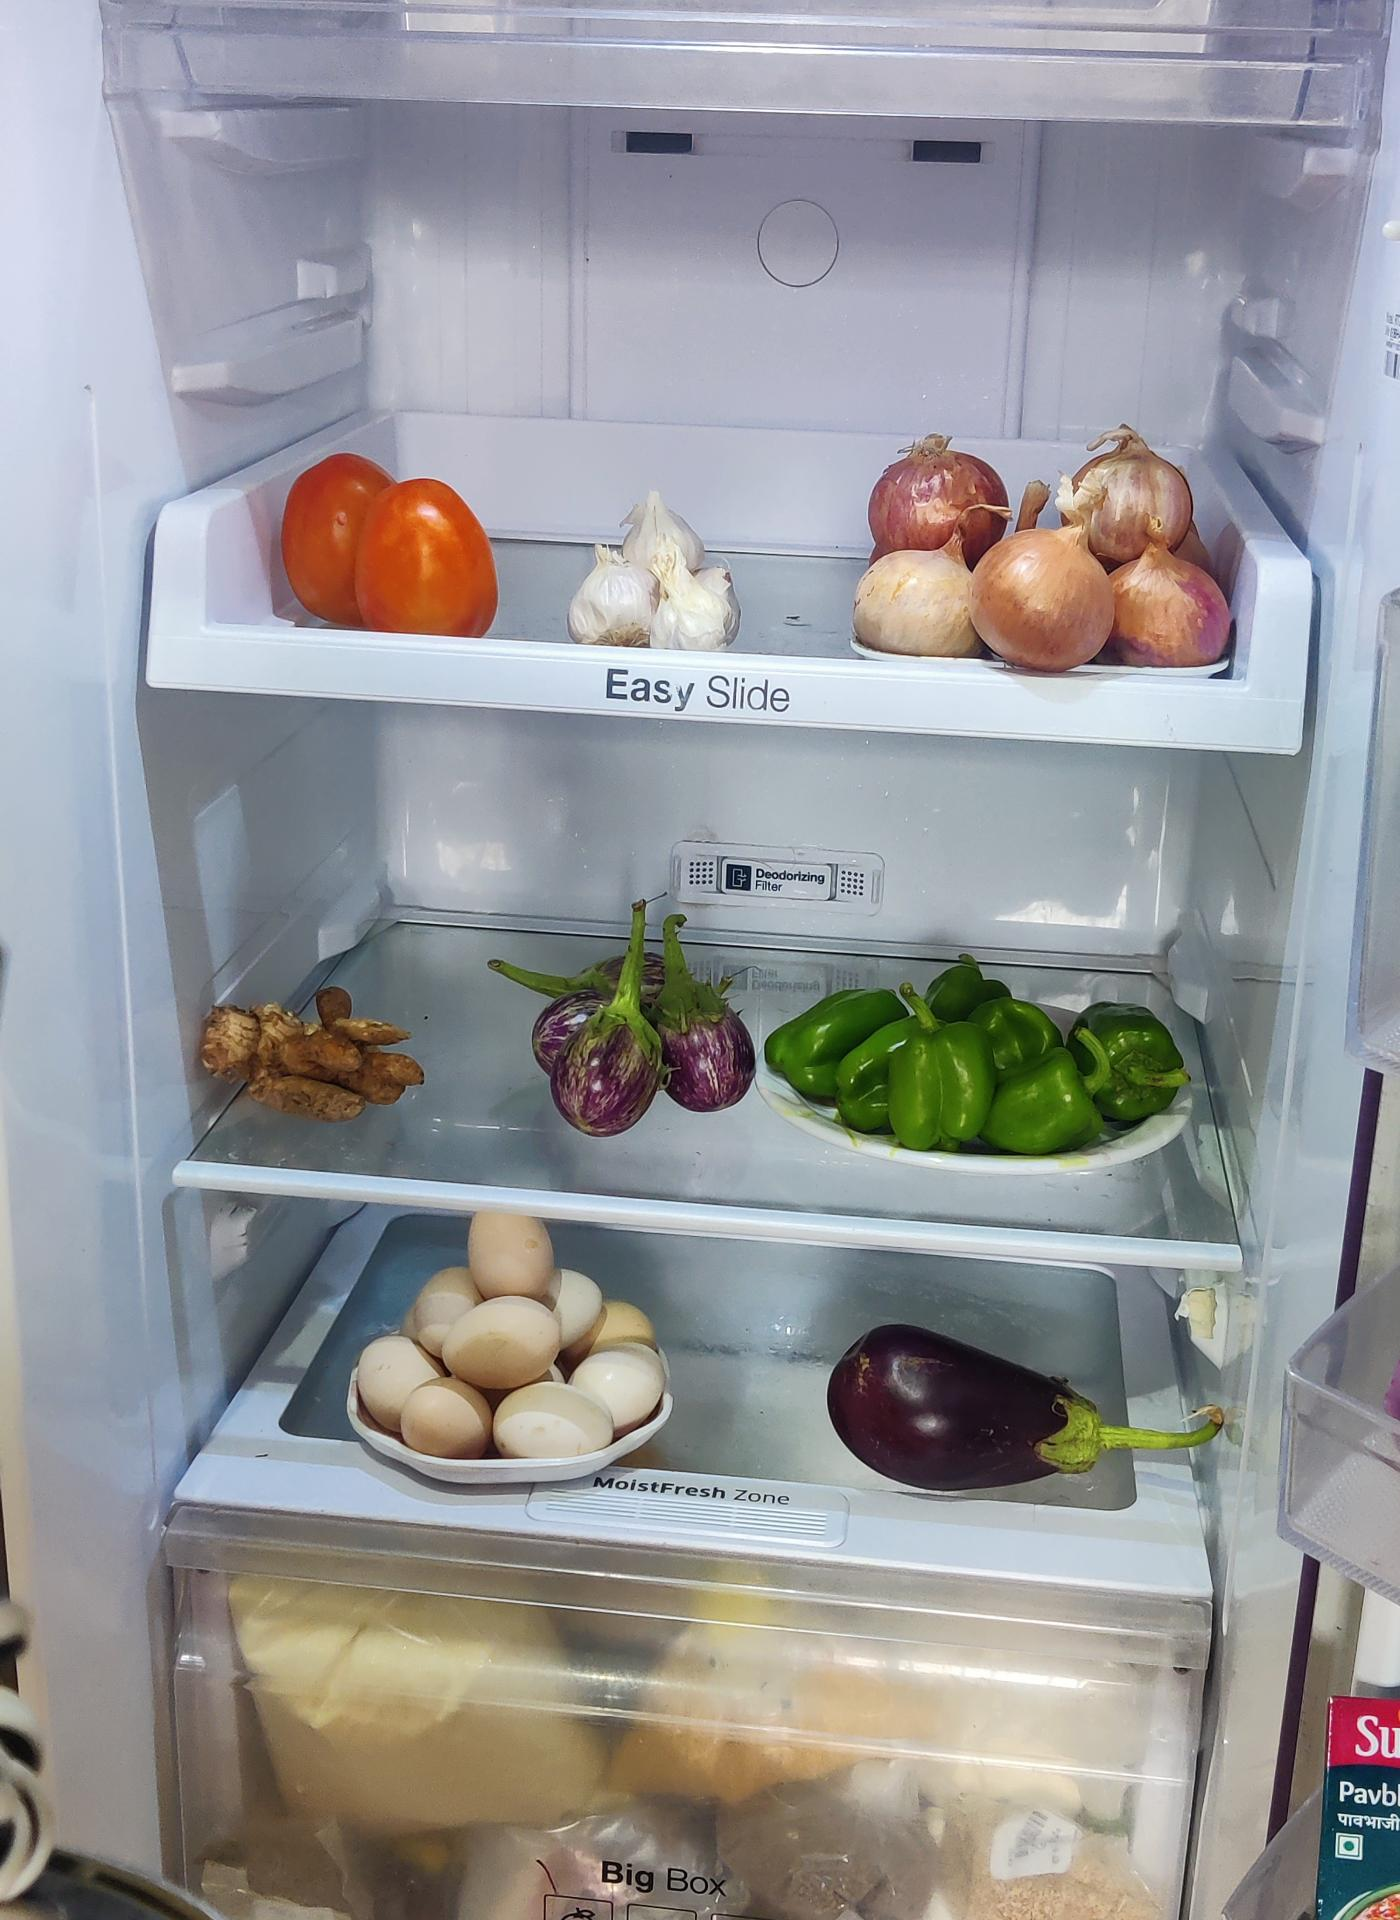brinjal: (827, 1307, 1123, 1510), (529, 941, 754, 1142)
capsicum: (763, 953, 1193, 1160)
egg: (341, 1207, 662, 1464)
garlic: (568, 493, 742, 659)
ginger: (198, 985, 425, 1127)
onion: (853, 429, 1243, 677)
tomato: (285, 459, 507, 644)
